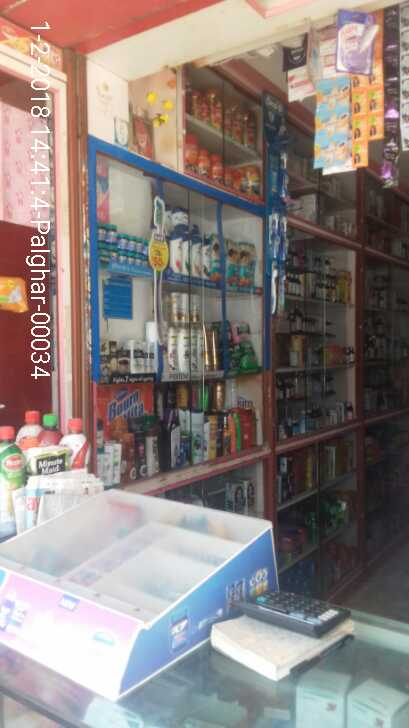oralcare: (266, 96, 291, 318)
vicks: (98, 220, 153, 269)
